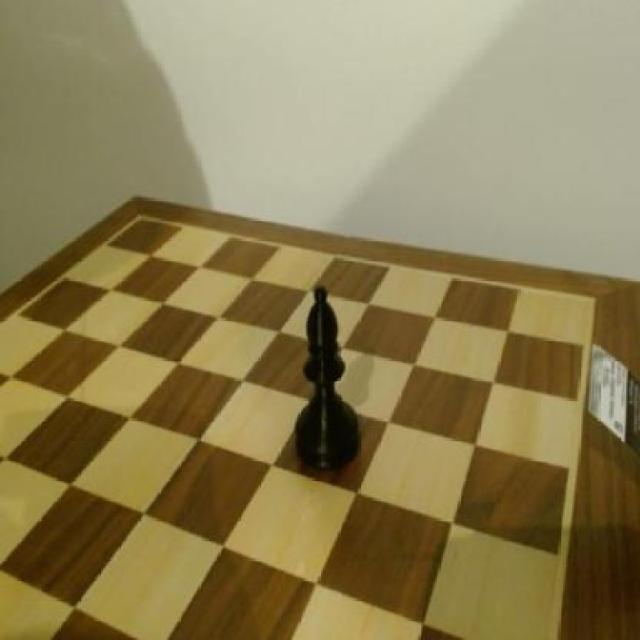bishop: (291, 272, 366, 480)
